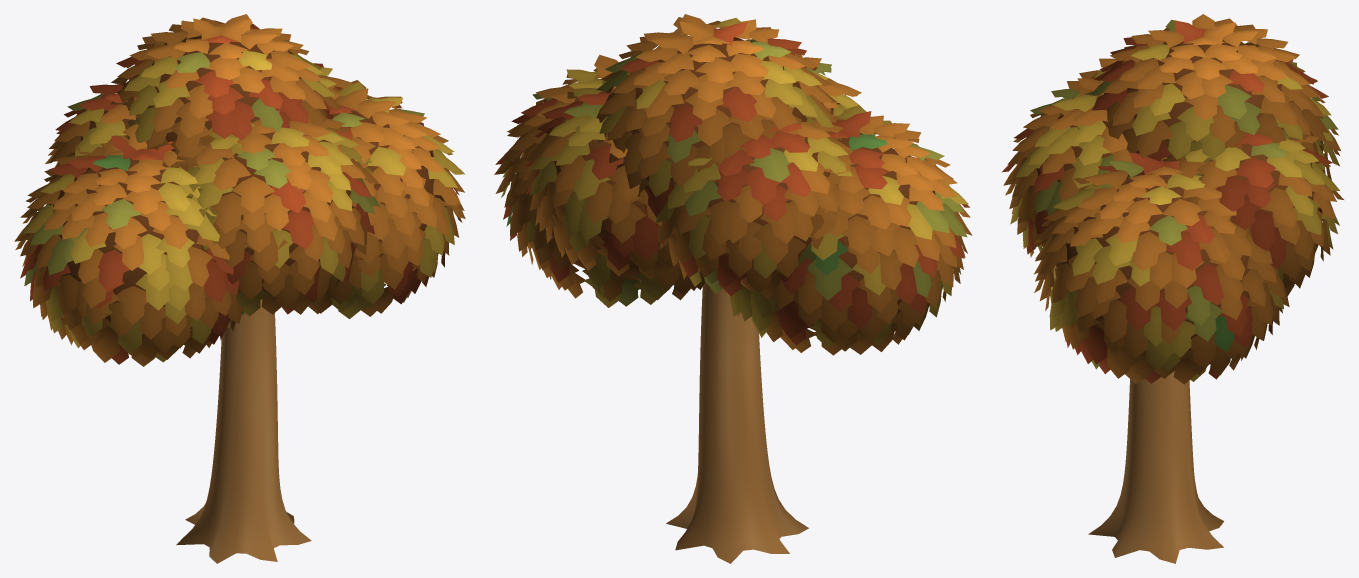
The model's file is tree_grand_fall.glb.
3 renders of one model, left to right at view 1: azimuth 30°, elevation 25°; view 2: azimuth 150°, elevation 25°; view 3: azimuth 270°, elevation 25°, orthographic. The views are drawn at different scales.
Parts seen in each view (by area): view 1: tree_grand_fall; view 2: tree_grand_fall; view 3: tree_grand_fall.
Part boxes in pixels (x1,y1,x2,y2): tree_grand_fall: [14, 14, 465, 563]; tree_grand_fall: [494, 14, 972, 563]; tree_grand_fall: [1002, 14, 1343, 563].
Bounding box in the file's own units: 5.57 × 6.31 × 3.88.
